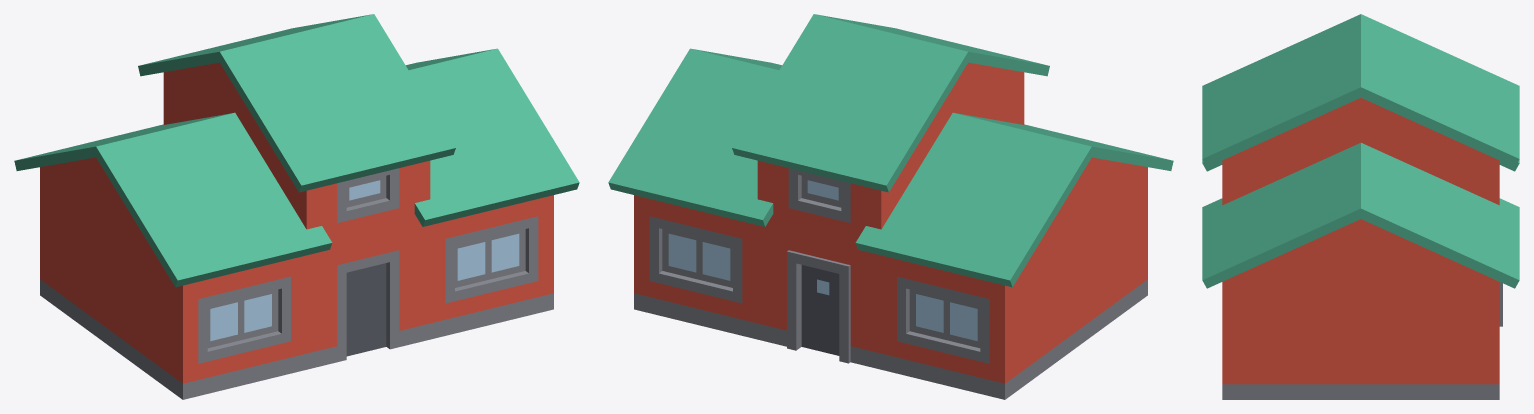
File: house_type09.fbx
3 renders of one model, left to right at view 1: azimuth 30°, elevation 25°; view 2: azimuth 150°, elevation 25°; view 3: azimuth 270°, elevation 25°, orthographic. The views are drawn at different scales.
Visible parts, largest first — view 1: house_type09; view 2: house_type09; view 3: house_type09.
Part boxes in pixels (x1,y1,x2,y2): house_type09: [14, 14, 579, 399]; house_type09: [608, 14, 1173, 399]; house_type09: [1202, 14, 1519, 399].
Size of the model in its own units: 13 by 8.34 by 9.16.
